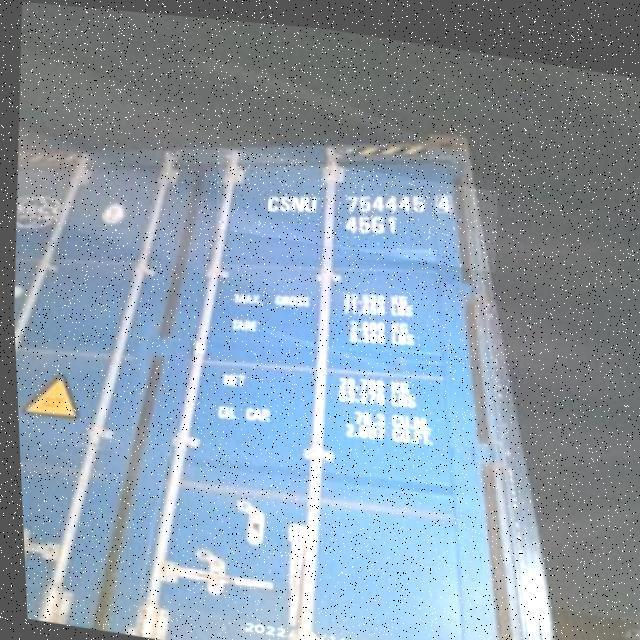container_number_h: (211, 142, 498, 263)
